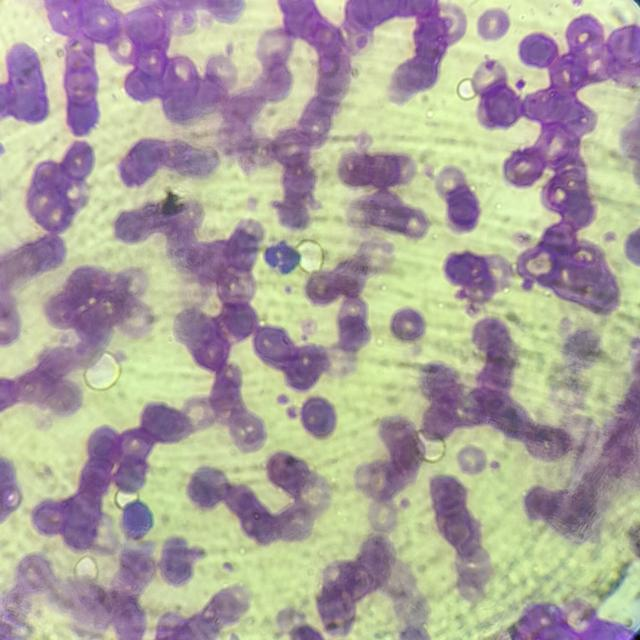Neutrofilo: (258, 237, 298, 285)
